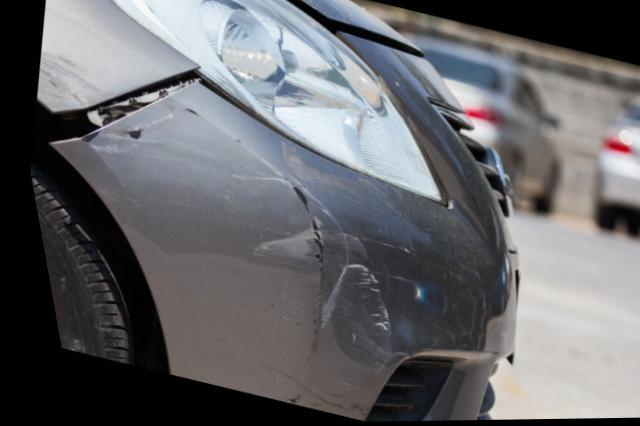scratch: (216, 161, 384, 400), (78, 100, 188, 174), (34, 44, 108, 107)
